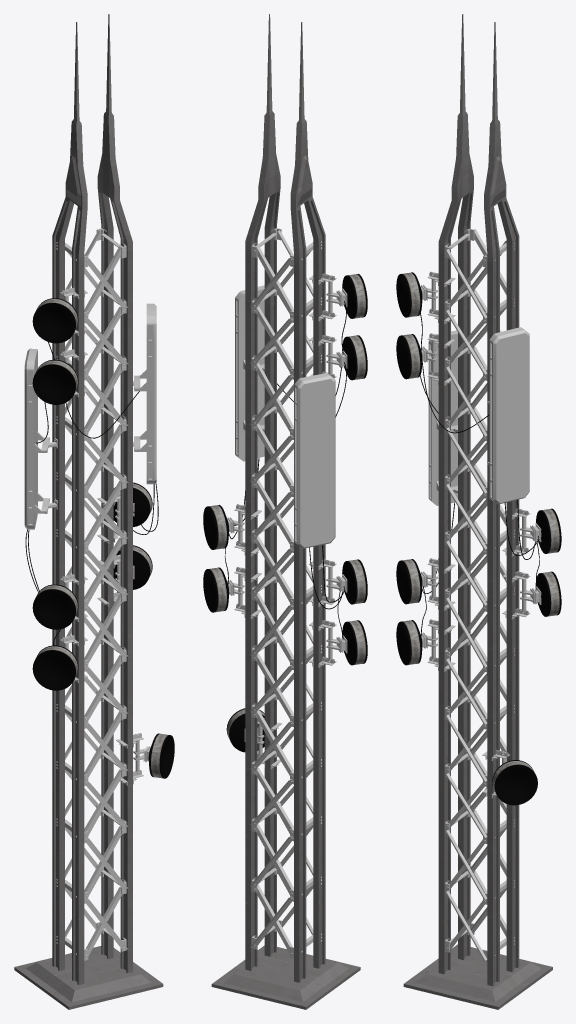
Rendered from KB3D_CBP_Antenna_Q.fbx.
The picture shows the model from 3 angles, left to right: view 1: azimuth 30°, elevation 25°; view 2: azimuth 150°, elevation 25°; view 3: azimuth 330°, elevation 25°; orthographic projection.
Visible parts, largest first — view 1: KB3D_CBP_Antenna_Q_Main; view 2: KB3D_CBP_Antenna_Q_Main; view 3: KB3D_CBP_Antenna_Q_Main.
Boxes of the visible parts, x1=… form: KB3D_CBP_Antenna_Q_Main: x1=14, y1=14, x2=174, y2=1009; KB3D_CBP_Antenna_Q_Main: x1=203, y1=14, x2=367, y2=1009; KB3D_CBP_Antenna_Q_Main: x1=396, y1=14, x2=561, y2=1009.
Size of the model in its own units: 666 by 4290 by 446.
